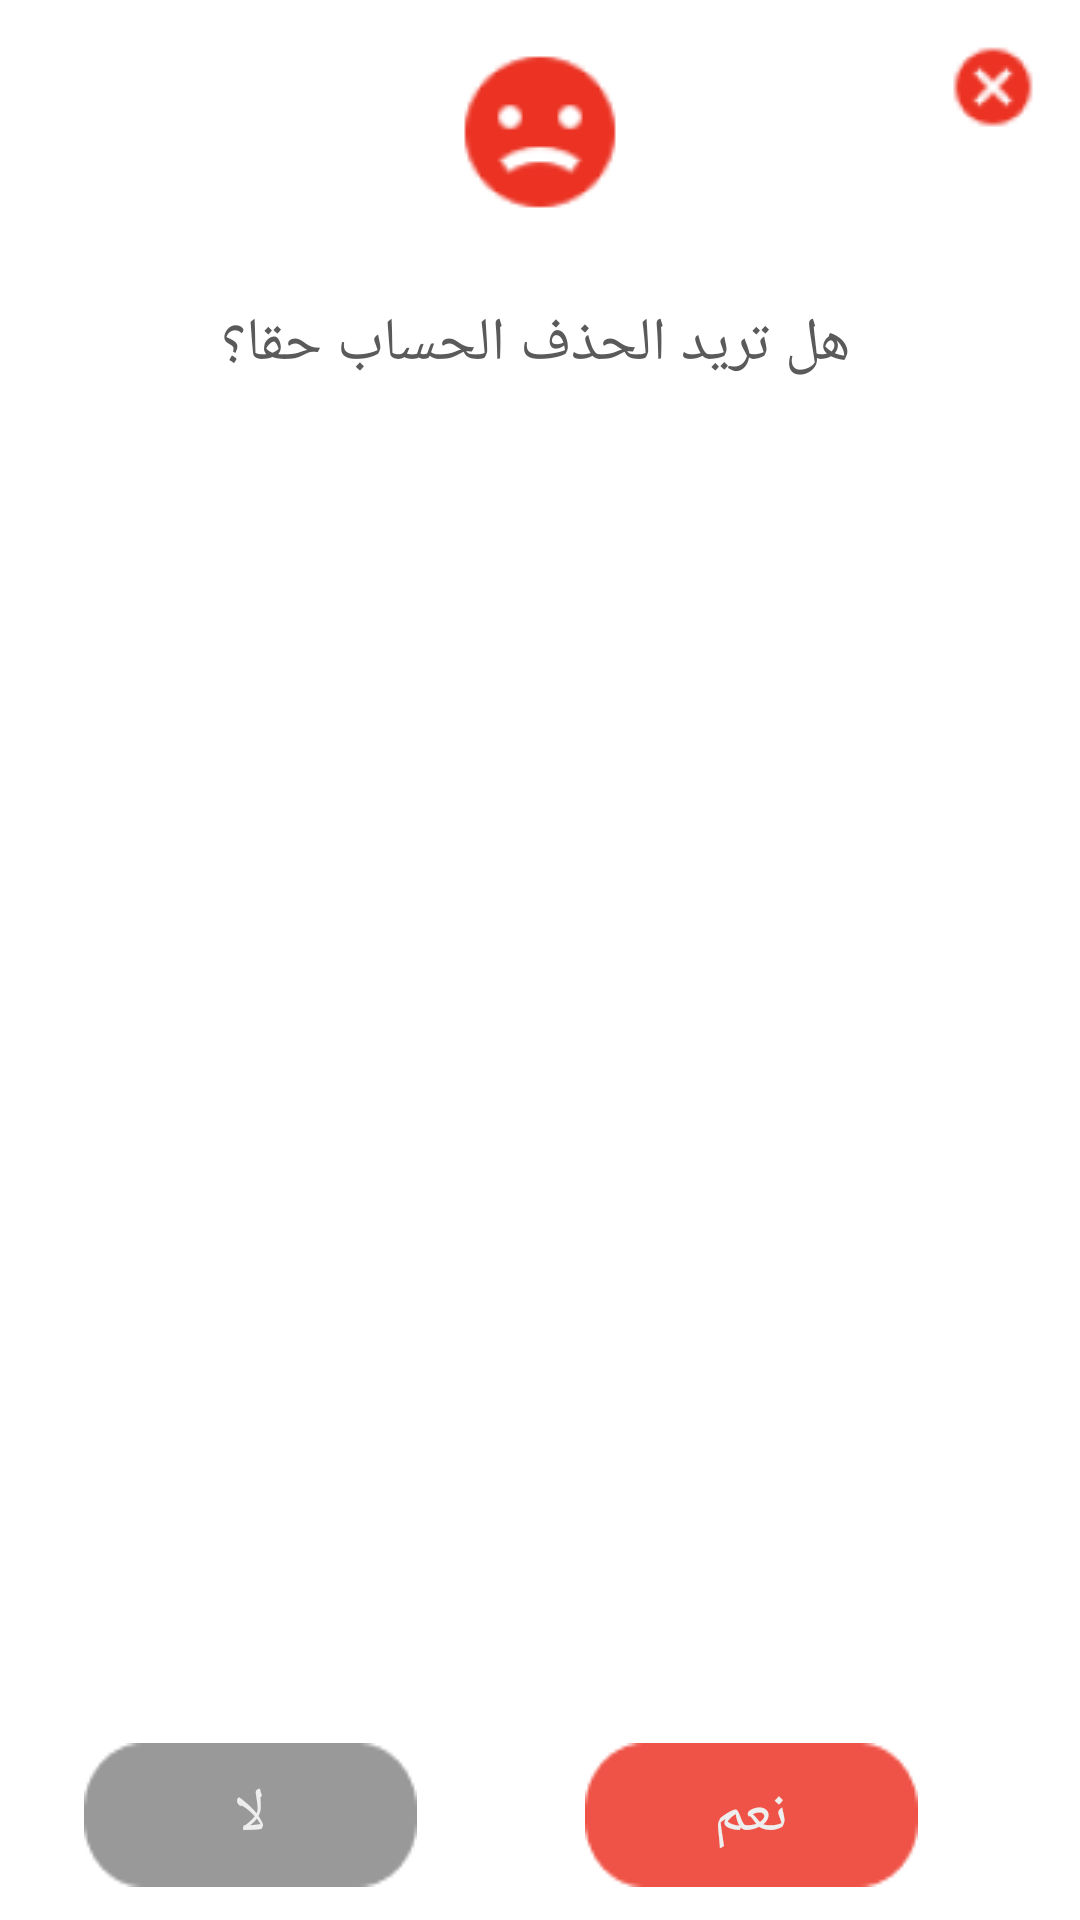

Icons on this 1080*1920 Android screen, each with its box as region(x1, y1, x2, y2):
cancel: region(953, 47, 1033, 127)
sad: region(464, 56, 616, 208)
